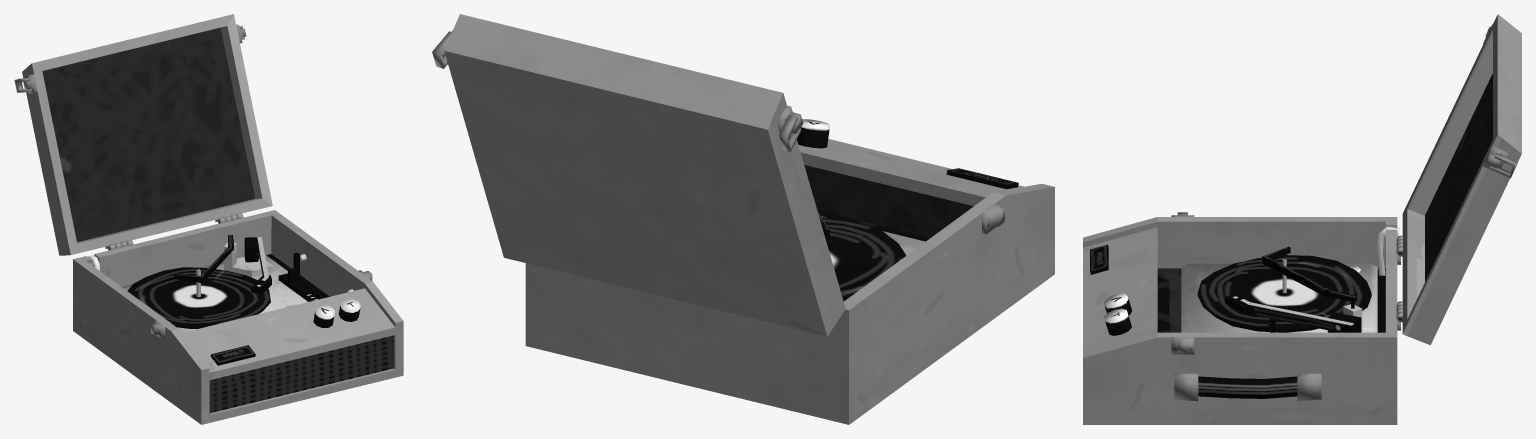
File: obj_RecordPlayer.fbx
The picture shows the model from 3 angles, left to right: view 1: azimuth 30°, elevation 25°; view 2: azimuth 150°, elevation 25°; view 3: azimuth 270°, elevation 25°; orthographic projection. The views are drawn at different scales.
Parts seen in each view (by area): view 1: obj_RecordPlayer_Lid, Cube, obj_RecordPlayer_Turntable, obj_RecordPlayer_Arm, obj_RecordPlayer_Arm2; view 2: obj_RecordPlayer_Lid, Cube, obj_RecordPlayer_Turntable; view 3: Cube, obj_RecordPlayer_Lid, obj_RecordPlayer_Turntable, obj_RecordPlayer_Arm, obj_RecordPlayer_Arm2.
Boxes of the visible parts, box(x1,y1,x2,y2) form: obj_RecordPlayer_Lid: box(14, 14, 272, 255); Cube: box(73, 210, 403, 424); obj_RecordPlayer_Turntable: box(127, 267, 270, 328); obj_RecordPlayer_Arm: box(244, 237, 271, 294); obj_RecordPlayer_Arm2: box(174, 235, 233, 283); obj_RecordPlayer_Lid: box(432, 14, 845, 336); Cube: box(525, 119, 1054, 424); obj_RecordPlayer_Turntable: box(822, 217, 906, 301); Cube: box(1083, 212, 1402, 424); obj_RecordPlayer_Lid: box(1396, 14, 1521, 345); obj_RecordPlayer_Turntable: box(1197, 255, 1371, 332); obj_RecordPlayer_Arm: box(1225, 293, 1361, 332); obj_RecordPlayer_Arm2: box(1262, 246, 1356, 308).
Size of the model in its own units: 0.3626 by 0.3722 by 0.5097.
Materials: 1 (1 with a texture image).
